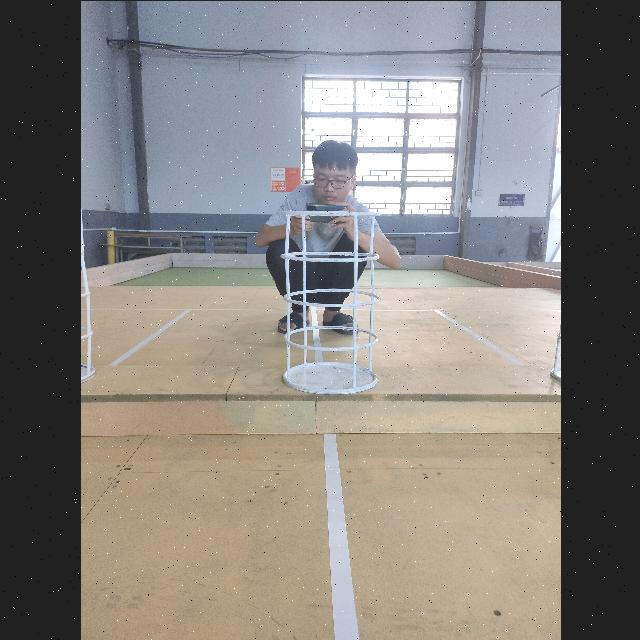S: (278, 210, 381, 394), (80, 207, 94, 382), (549, 298, 560, 381)
